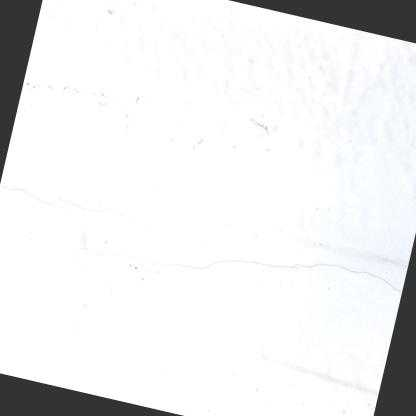crack: (0, 233, 403, 293), (0, 183, 69, 209), (104, 205, 158, 228), (58, 195, 106, 213)
